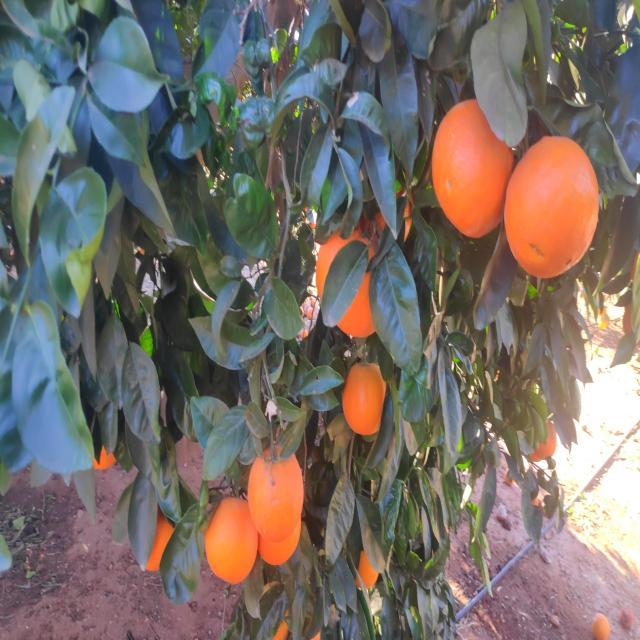Jeruk Sudah Matang: (506, 136, 600, 276), (434, 98, 512, 242), (317, 228, 389, 336), (249, 446, 306, 538), (206, 500, 258, 586), (342, 360, 388, 436), (144, 507, 177, 570), (256, 522, 302, 566), (356, 554, 380, 594), (92, 440, 119, 466)
